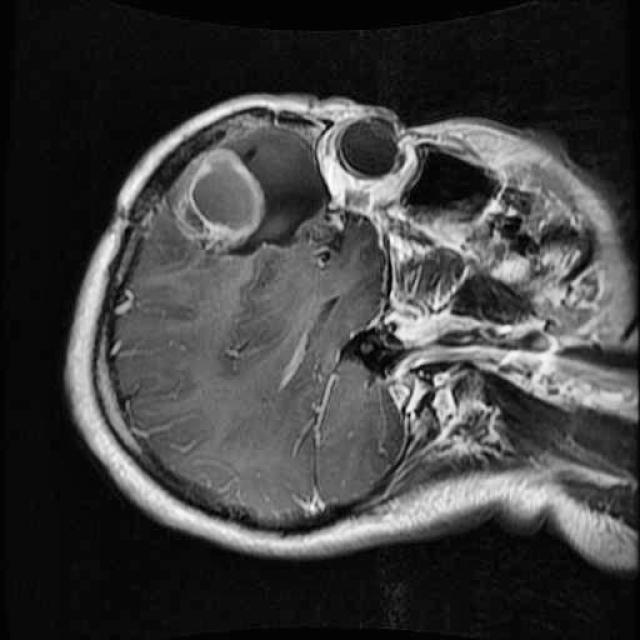Tumor: (176, 139, 270, 255)
